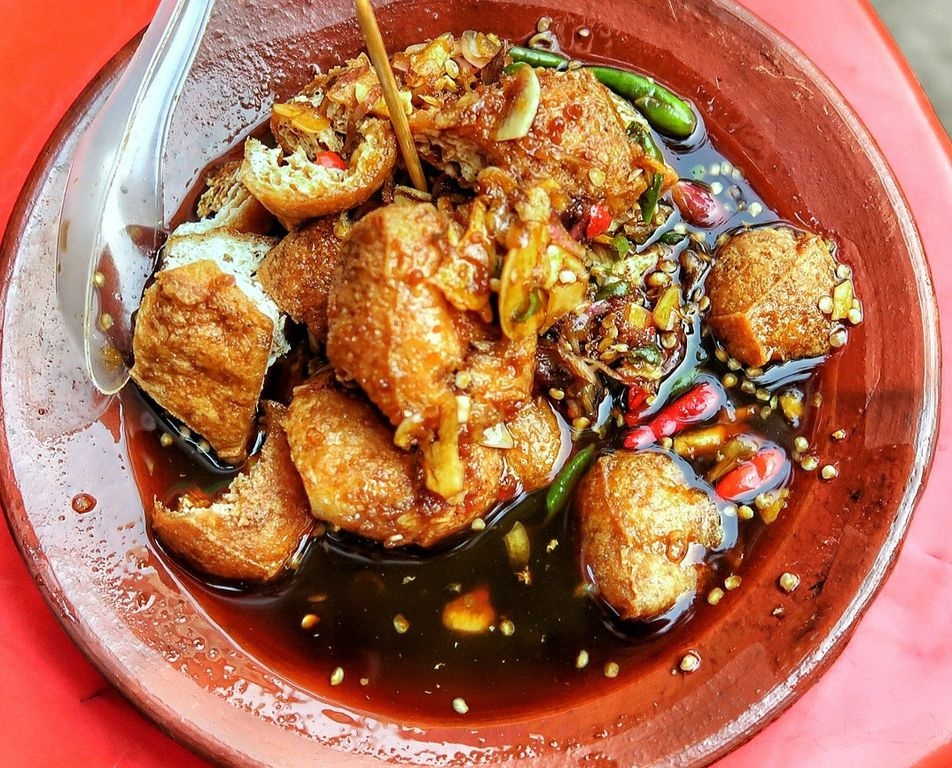tahu_gejrot: (129, 30, 850, 686)
